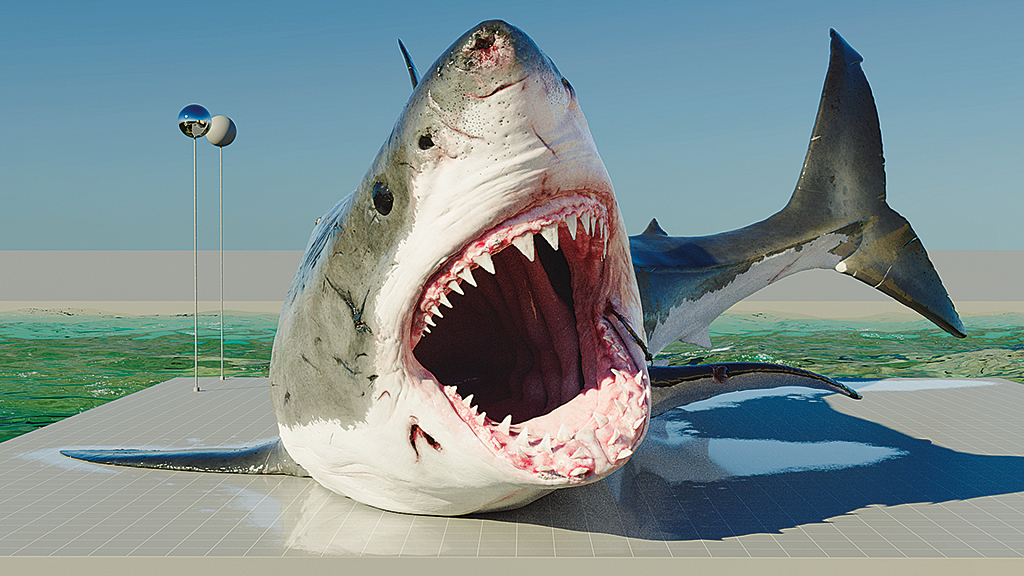shark: (207, 11, 970, 521)
